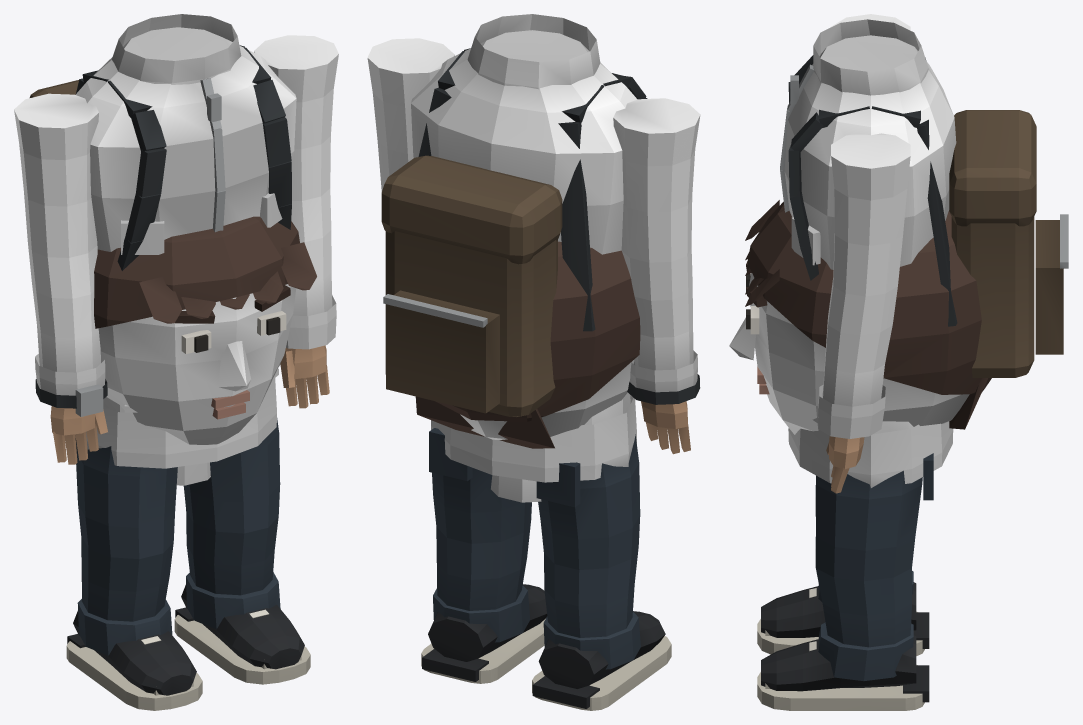
File: walker-near.glb
The picture shows the model from 3 angles, left to right: view 1: azimuth 30°, elevation 25°; view 2: azimuth 150°, elevation 25°; view 3: azimuth 270°, elevation 25°; orthographic projection. The views are drawn at different scales.
Visible parts, largest first — view 1: WalkerBodyNear, WalkerHeadNear; view 2: WalkerBodyNear, WalkerHeadNear; view 3: WalkerBodyNear, WalkerHeadNear.
Boxes of the visible parts, x1,y1,x2,y2 form: WalkerBodyNear: (14,14,338,710); WalkerHeadNear: (94,216,316,485); WalkerBodyNear: (367,14,700,710); WalkerHeadNear: (415,241,640,502); WalkerBodyNear: (757,14,1068,710); WalkerHeadNear: (729,200,991,434).
Size of the model in its own units: 0.42 by 0.786 by 0.3895.
